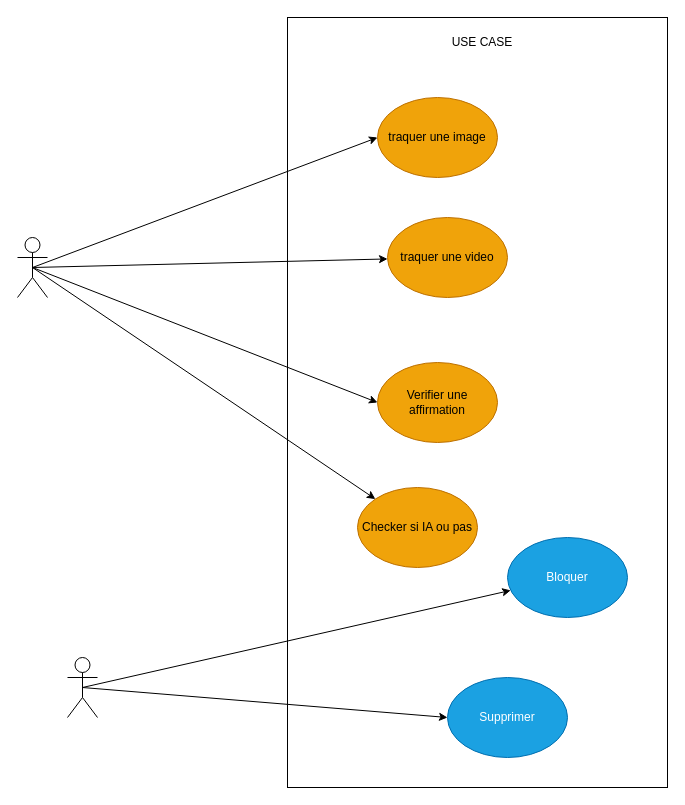
The diagram is 685 pixels wide and 805 high, and some of its shapes have lost their labels. The shapes that lost their labels are listed below. From the top down, each one's centre as x and y in pixels, then its label:
At (x=32, y=267): "User".
At (x=82, y=687): "Admin".
